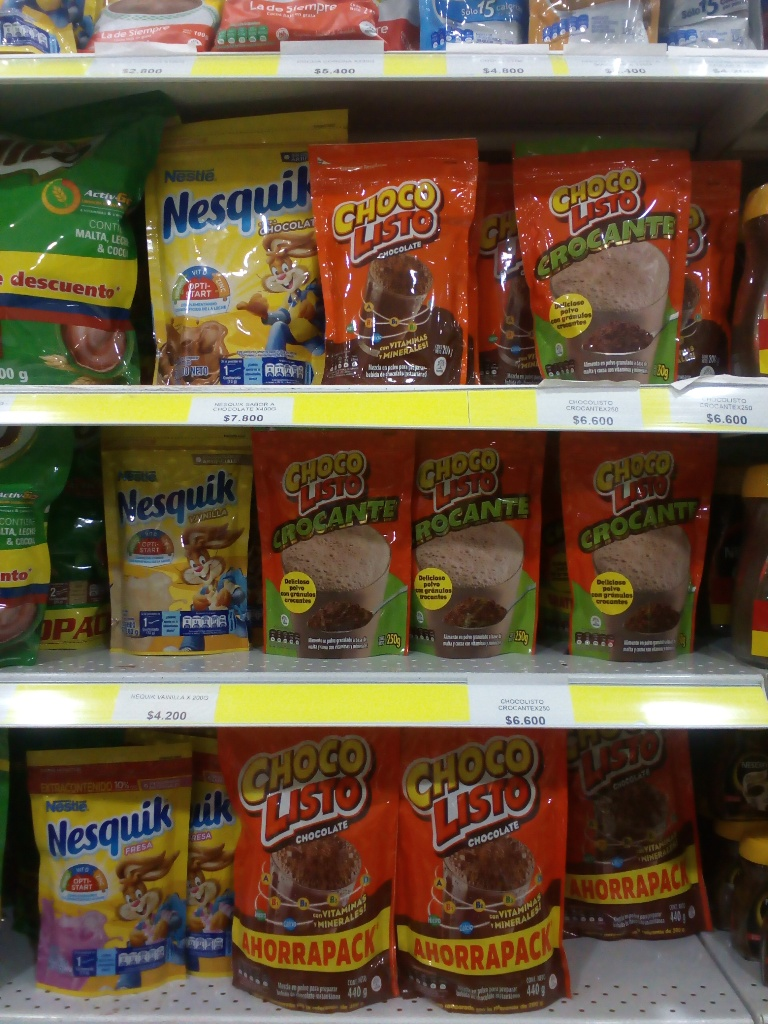COL0170103DYP44000: (216, 724, 408, 1015)
COL0170306DYP20000: (98, 426, 251, 655)
